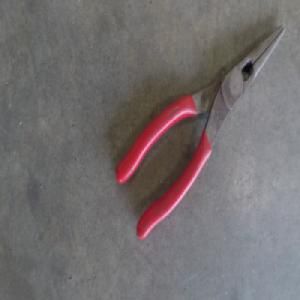Pliers: (114, 26, 286, 239)
